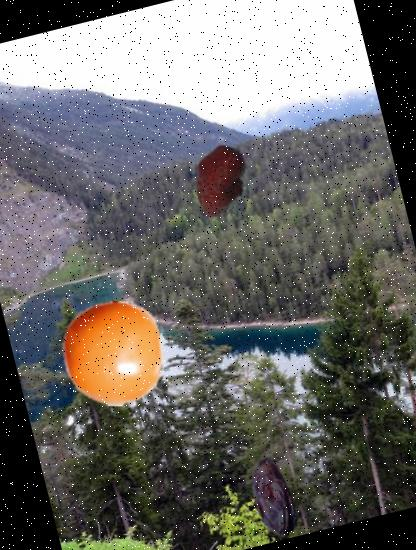Dates: (225, 450, 320, 544)
Strawberry: (174, 136, 266, 227)
Tomato: (49, 290, 177, 417)
